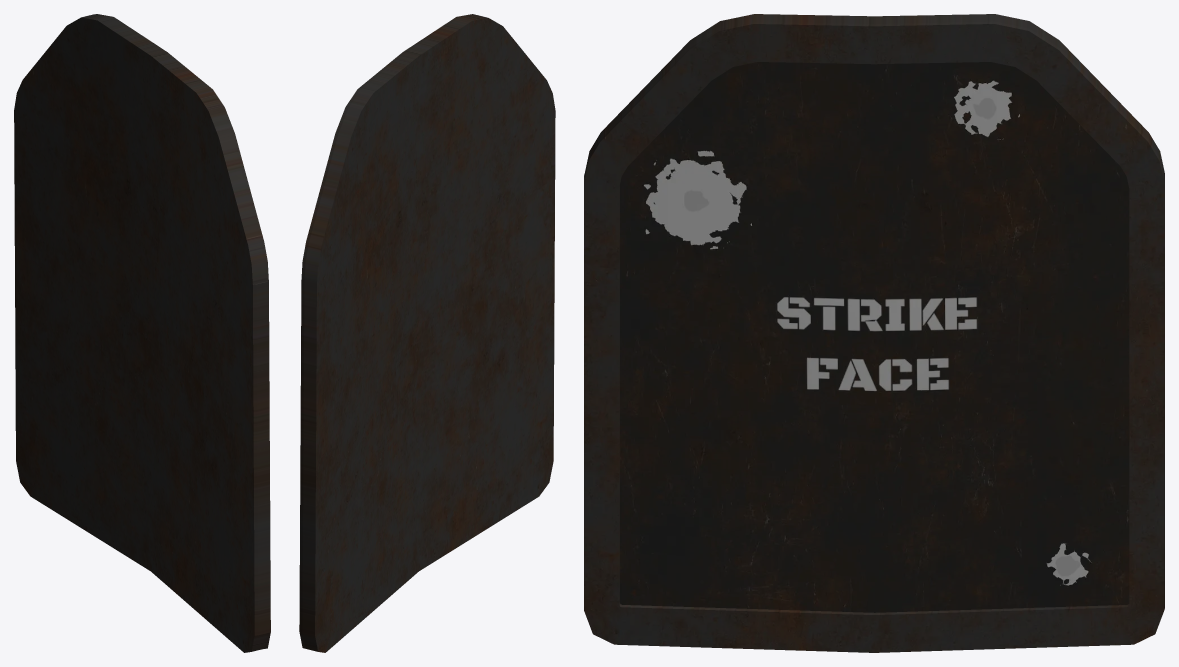
File: armor_plate.glb
3 renders of one model, left to right at view 1: azimuth 30°, elevation 25°; view 2: azimuth 150°, elevation 25°; view 3: azimuth 270°, elevation 25°, orthographic. The views are drawn at different scales.
Parts seen in each view (by area): view 1: defaultMaterial; view 2: defaultMaterial; view 3: defaultMaterial (×2).
Boxes of the visible parts, x1,y1,x2,y2 form: defaultMaterial: [14, 14, 270, 652]; defaultMaterial: [299, 14, 555, 652]; defaultMaterial (×2): [584, 14, 1164, 652].
Size of the model in its own units: 6.84 by 99.93 by 83.9.
2 materials, 2 textured.
